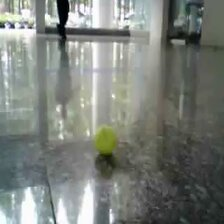tennis: (94, 126, 115, 154)
